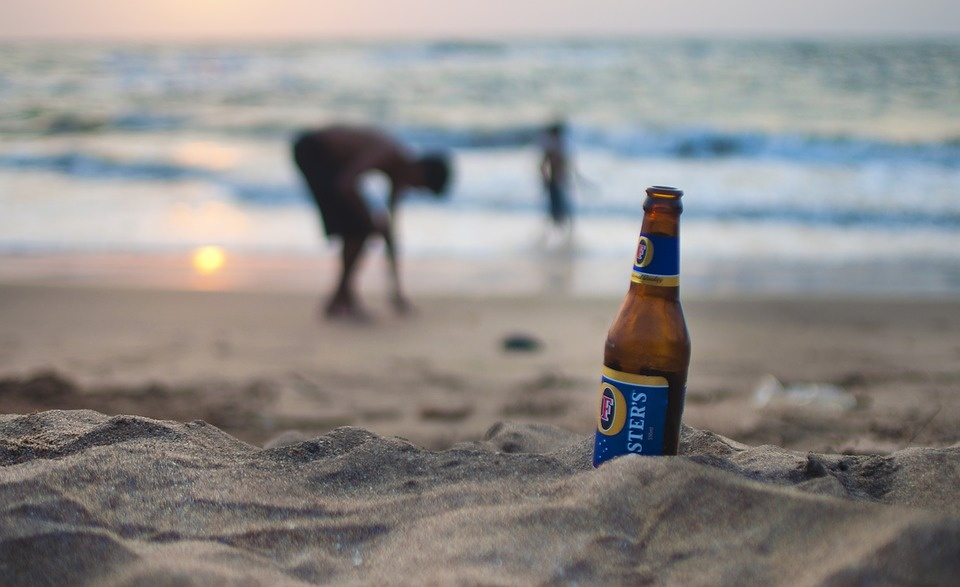beerBottle: (594, 189, 689, 464)
